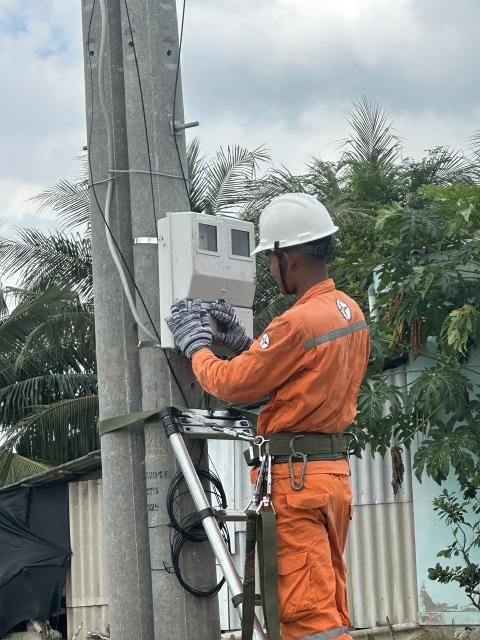gloves: (156, 291, 215, 358), (208, 294, 265, 357)
harness: (224, 417, 365, 481)
helmet: (235, 186, 352, 265)
